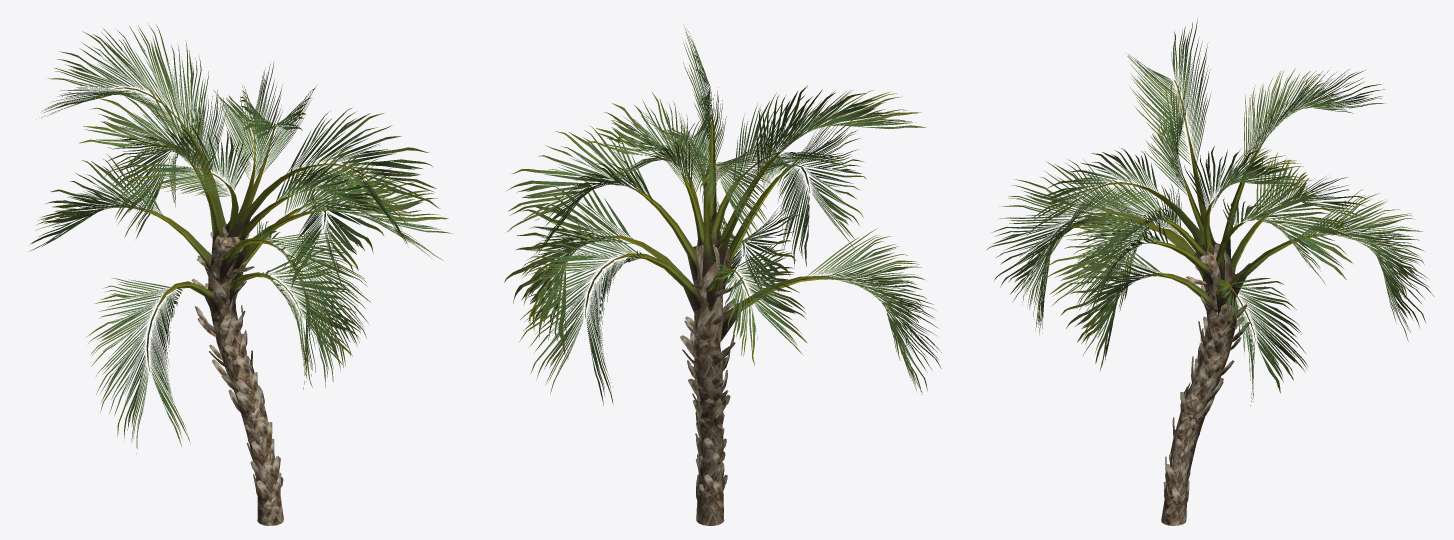
File: curly palm.fbx
The picture shows the model from 3 angles, left to right: view 1: azimuth 30°, elevation 25°; view 2: azimuth 150°, elevation 25°; view 3: azimuth 270°, elevation 25°; orthographic projection. The views are drawn at different scales.
Visible parts, largest first — view 1: Tree_1, Tree_3, Tree_0, Tree_2; view 2: Tree_1, Tree_3, Tree_0, Tree_2; view 3: Tree_1, Tree_3, Tree_0, Tree_2.
Boxes of the visible parts, bbox=[...] form: Tree_1: bbox=[29, 23, 452, 453]; Tree_3: bbox=[140, 117, 320, 317]; Tree_0: bbox=[208, 223, 283, 525]; Tree_2: bbox=[191, 232, 283, 502]; Tree_1: bbox=[504, 25, 941, 405]; Tree_3: bbox=[605, 114, 843, 341]; Tree_0: bbox=[693, 244, 729, 525]; Tree_2: bbox=[680, 277, 743, 505]; Tree_1: bbox=[987, 18, 1434, 405]; Tree_3: bbox=[1096, 134, 1326, 319]; Tree_0: bbox=[1161, 243, 1237, 525]; Tree_2: bbox=[1163, 263, 1250, 506].
Bounding box in the file's own units: 169 × 201 × 192.
4 materials, 4 textured.
